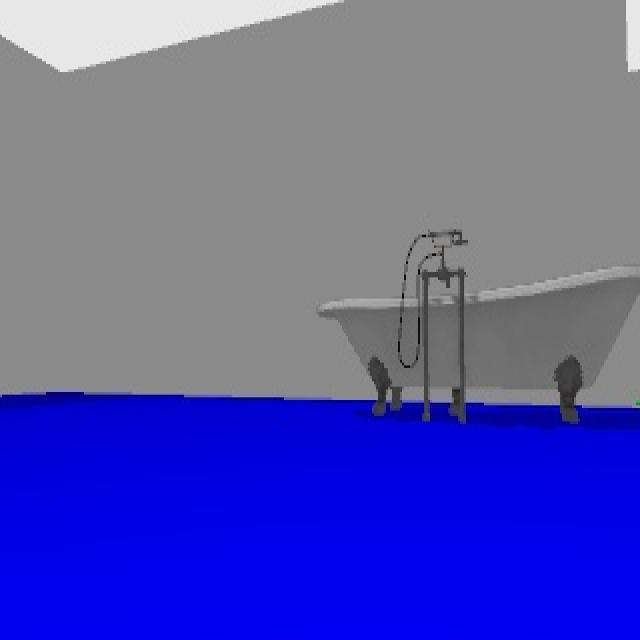bathtub: (318, 229, 638, 424)
